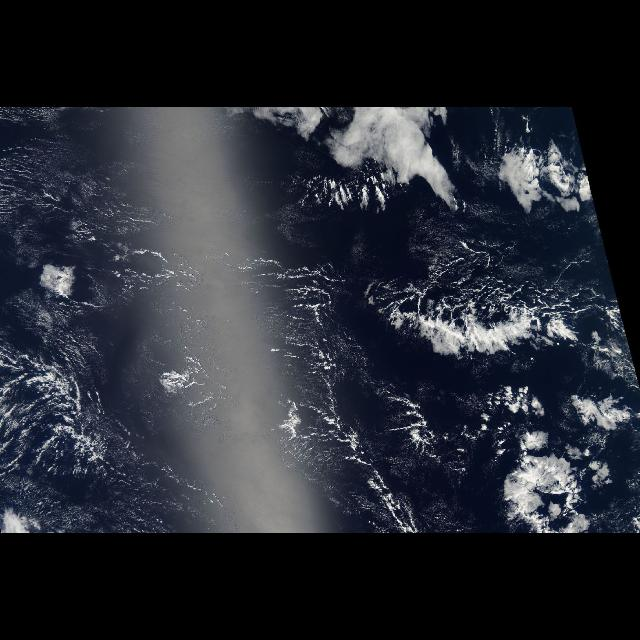Fish: (364, 262, 630, 386)
Sugar: (2, 111, 218, 256)
